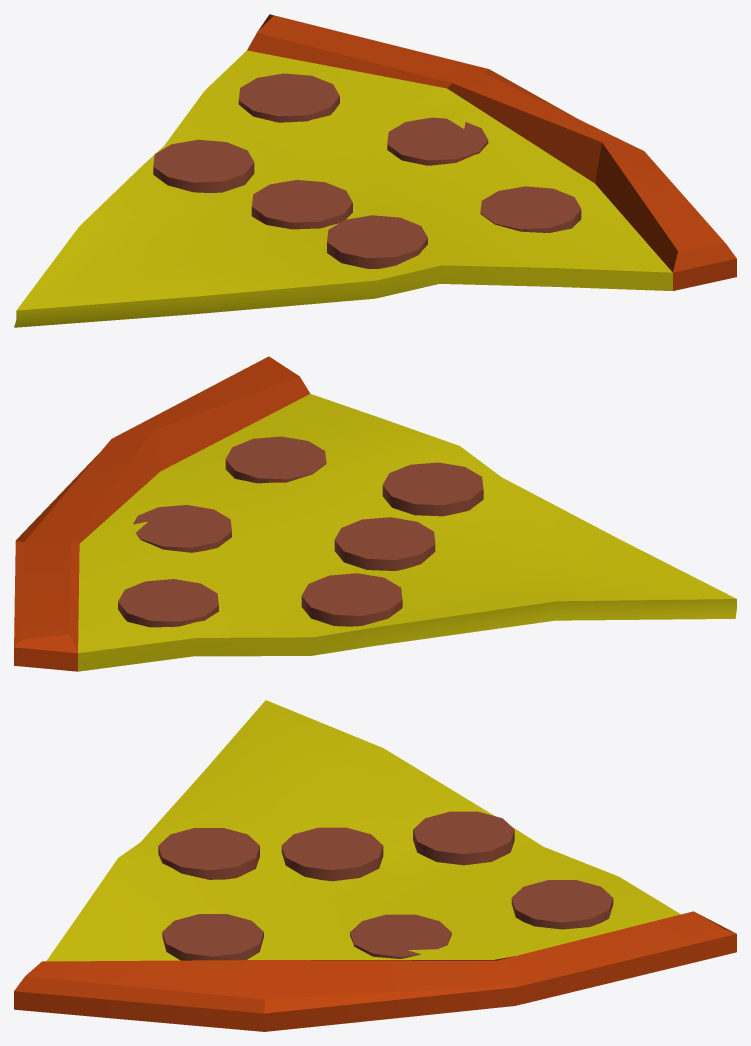
File: pizaa.FBX
The picture shows the model from 3 angles, top to bottom: view 1: azimuth 30°, elevation 25°; view 2: azimuth 150°, elevation 25°; view 3: azimuth 270°, elevation 25°; orthographic projection.
Visible parts, largest first — view 1: Cylinder004, Cylinder008; view 2: Cylinder004, Cylinder008; view 3: Cylinder004, Cylinder008.
Part boxes in pixels (<box>): Cylinder004: <box>14,14,736,327</box>; Cylinder008: <box>153,73,581,268</box>; Cylinder004: <box>14,356,736,671</box>; Cylinder008: <box>118,436,483,627</box>; Cylinder004: <box>14,700,736,1031</box>; Cylinder008: <box>158,811,613,960</box>.
Size of the model in its own units: 297 by 292 by 25.81.
